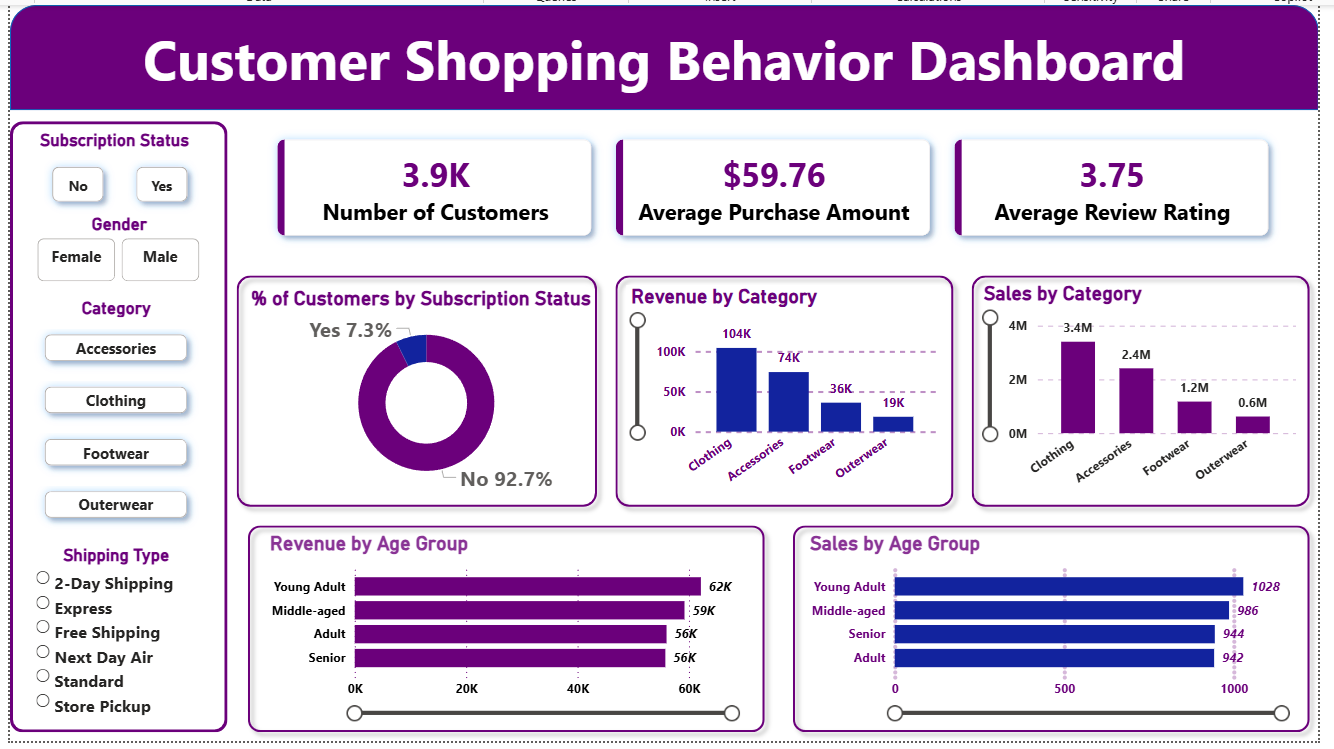

This screenshot's page, from the dashboard's own definition file:
{"tool":"powerbi","page":{"name":"Page 1","canvas":[1280,720],"ordinal":0},"visuals":[{"type":"cardVisual","fields":{"Data":["_Measure.Number of Customers","_Measure.Average Purchase Amount","_Measure.Average Review Rating"]},"box":[212.8,102.7,1067.5,152.9],"z":0},{"type":"shape","box":[0,0,1280.3,102.9],"z":1000},{"type":"textbox","box":[0,11,1280.3,81],"z":2000},{"type":"shape","box":[212.7,255.2,370.5,244.3],"z":3000},{"type":"donutChart","title":"% of Customers by Subscription Status","fields":{"Category":["customer.subscription_status"],"Y":["Sum(customer.customer_id)"]},"box":[230.5,275.8,352.7,204.5],"z":4000},{"type":"shape","box":[583.2,255.2,348.5,244.3],"z":5000},{"type":"shape","box":[931.7,255.2,348.5,244.3],"z":6000},{"type":"shape","box":[0,113.7,212.8,598],"z":7000},{"type":"shape","box":[223.8,500.1,523.4,220.1],"z":8000},{"type":"shape","box":[756.9,500.1,523.4,220.1],"z":9000},{"type":"clusteredColumnChart","title":"Revenue by Category","fields":{"Category":["customer.category"],"Y":["Sum(customer.purchase_amount)"]},"box":[602.9,273.9,308.2,206.7],"z":10000},{"type":"clusteredColumnChart","title":"Sales by Category","fields":{"Category":["customer.category"],"Y":["Sum(customer.customer_id)"]},"box":[947.7,271.5,315.5,211.6],"z":11000},{"type":"clusteredBarChart","title":"Revenue by Age Group","fields":{"Category":["customer.age_group"],"Y":["Sum(customer.purchase_amount)"]},"box":[249.5,516,473.2,187.1],"z":12000},{"type":"clusteredBarChart","title":"Sales by Age Group","fields":{"Category":["customer.age_group"],"Y":["_Measure.Number of Customers"]},"box":[777.7,516,485.5,187.1],"z":13000},{"type":"advancedSlicerVisual","title":"Subscription Status","fields":{"Values":["customer.subscription_status"]},"box":[24.5,122.3,166.3,88],"z":14000},{"type":"advancedSlicerVisual","title":"Gender","fields":{"Values":["customer.gender"]},"box":[22,204.2,170,72.1],"z":15000},{"type":"advancedSlicerVisual","title":"Category","fields":{"Values":["customer.category"]},"box":[17.1,286.1,173.6,229.9],"z":16000},{"type":"listSlicer","title":"Shipping Type","fields":{"Values":["customer.shipping_type"]},"box":[19.6,528.3,168.8,174.9],"z":17000}]}

Visuals, with their boxes in screenshot pixels (x1, y1, x2, y2), scaled from the page's 1280x720 canvas onto the 1334x749 screenshot:
cardVisual - _Measure.Number of Customers x _Measure.Average Purchase Amount: Rect(222, 107, 1333, 266)
shape: Rect(0, 0, 1333, 107)
textbox: Rect(0, 11, 1333, 96)
shape: Rect(222, 265, 608, 520)
"% of Customers by Subscription Status" donutChart: Rect(240, 287, 608, 500)
shape: Rect(608, 265, 971, 520)
shape: Rect(971, 265, 1333, 520)
shape: Rect(0, 118, 222, 740)
shape: Rect(233, 520, 779, 748)
shape: Rect(789, 520, 1333, 748)
"Revenue by Category" clusteredColumnChart: Rect(628, 285, 950, 500)
"Sales by Category" clusteredColumnChart: Rect(988, 282, 1316, 503)
"Revenue by Age Group" clusteredBarChart: Rect(260, 537, 753, 731)
"Sales by Age Group" clusteredBarChart: Rect(811, 537, 1316, 731)
"Subscription Status" advancedSlicerVisual: Rect(26, 127, 199, 219)
"Gender" advancedSlicerVisual: Rect(23, 212, 200, 287)
"Category" advancedSlicerVisual: Rect(18, 298, 199, 537)
"Shipping Type" listSlicer: Rect(20, 550, 196, 732)
